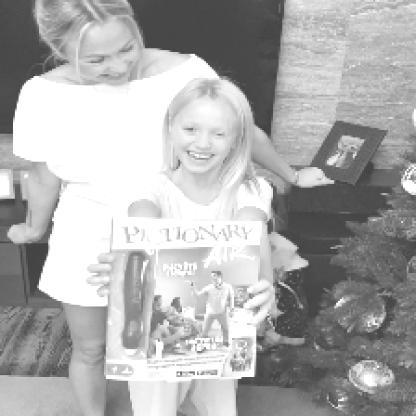child: (124, 77, 278, 415)
